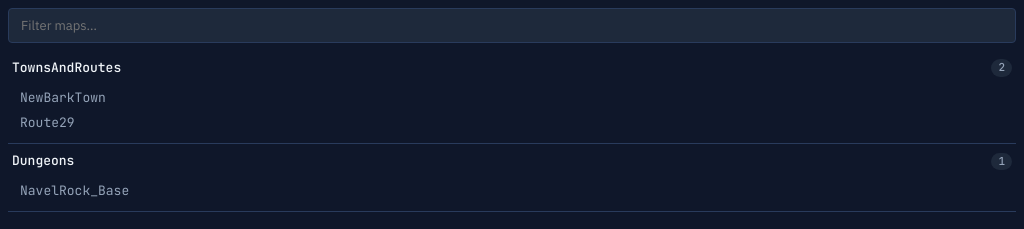
Test: MapTree › says so when a filter matches nothing, rather than showing an empty panel
The image size is (1024, 229).
In the field with placeholder "Filter maps…": (512, 26) [8,8,1016,43], type "zzzz"
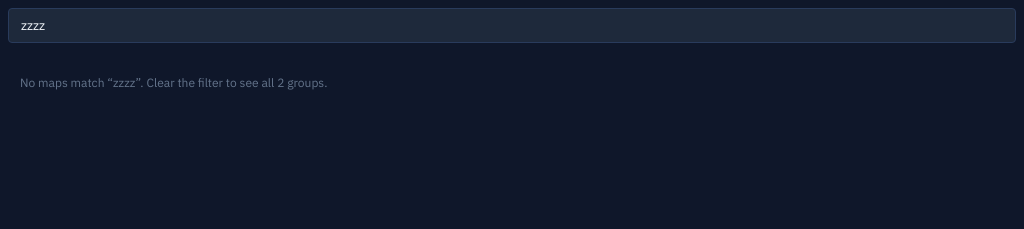
Now the text "No maps match “zzzz”. Clear the filter to see all 2 groups." is shown, box [20,75,327,90]
